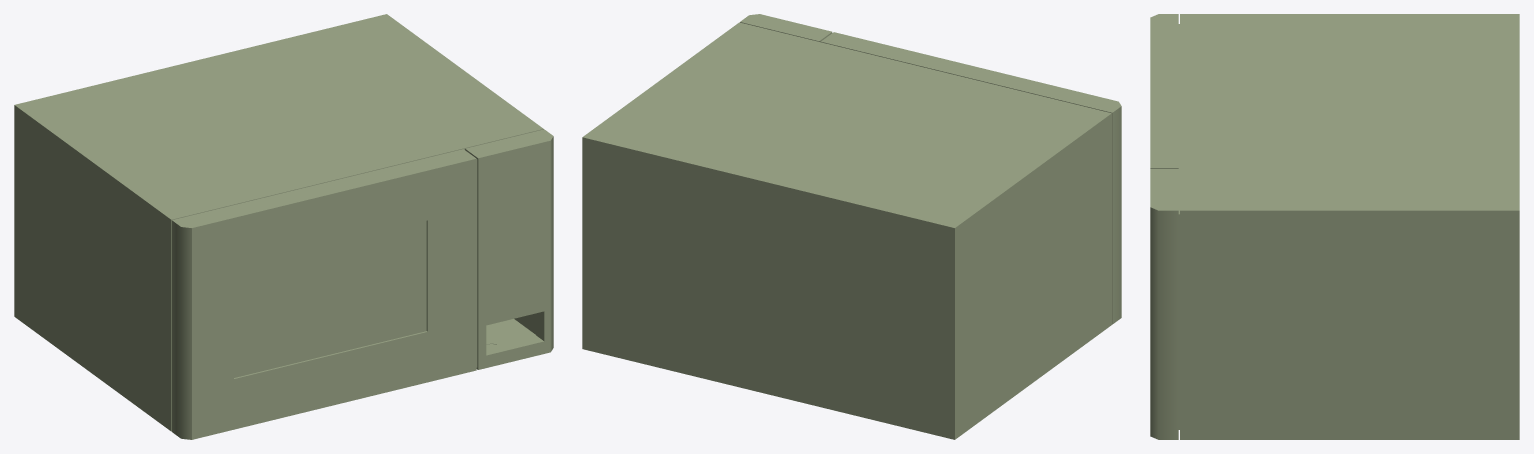
File: Microondas.fbx
The picture shows the model from 3 angles, left to right: view 1: azimuth 30°, elevation 25°; view 2: azimuth 150°, elevation 25°; view 3: azimuth 270°, elevation 25°; orthographic projection. The views are drawn at different scales.
Parts seen in each view (by area): view 1: Microondas; view 2: Microondas; view 3: Microondas.
Boxes of the visible parts, x1,y1,x2,y2 form: Microondas: (14,14,553,439); Microondas: (582,14,1121,439); Microondas: (1150,14,1519,439).
Bounding box in the file's own units: 0.439 × 0.25 × 0.3484.
